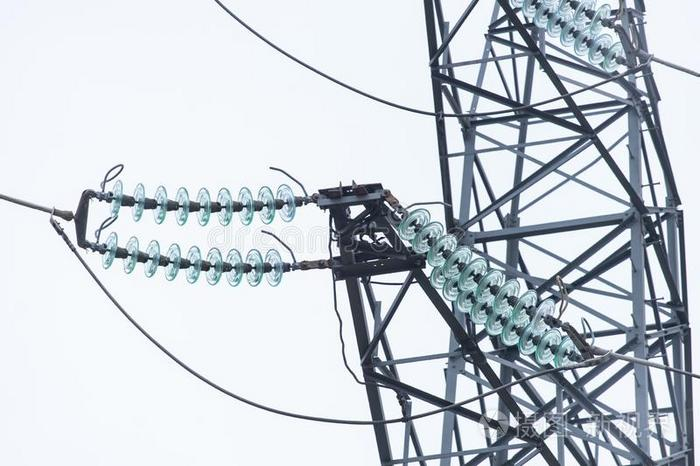insulator: (400, 206, 575, 367), (103, 232, 285, 290), (106, 178, 300, 227), (515, 1, 624, 75)
